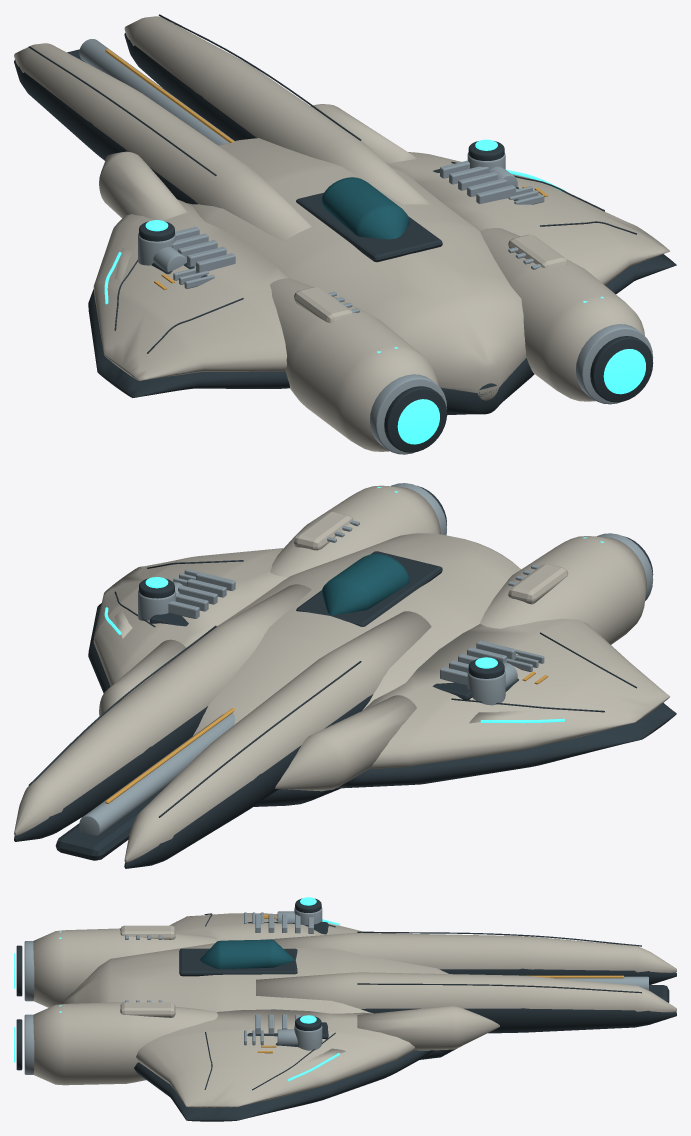
File: siege-1.glb
3 views of the same model, one above another, from view 1: azimuth 30°, elevation 25°; view 2: azimuth 150°, elevation 25°; view 3: azimuth 270°, elevation 25° (orthographic). The views are drawn at different scales.
Visible parts, largest first — view 1: SM_Hull, SM_Wing_Left, SM_Engine_Left, SM_Engine_Right, SM_Wing_Right, SM_Stage03, SM_Weapon_Right, SM_Stage04, SM_Stage01; view 2: SM_Hull, SM_Wing_Left, SM_Engine_Left, SM_Wing_Right, SM_Engine_Right, SM_Weapon_Right, SM_Stage03, SM_Stage04, SM_Stage02; view 3: SM_Hull, SM_Wing_Right, SM_Engine_Right, SM_Engine_Left, SM_Wing_Left, SM_Stage03, SM_Stage04, SM_Weapon_Right, SM_Stage01.
Boxes of the visible parts, x1,y1,x2,y2 form: SM_Hull: (14, 14, 534, 415); SM_Wing_Left: (88, 199, 289, 397); SM_Engine_Left: (270, 278, 446, 454); SM_Engine_Right: (480, 228, 653, 404); SM_Wing_Right: (386, 152, 676, 293); SM_Stage03: (173, 186, 568, 322); SM_Weapon_Right: (67, 39, 234, 144); SM_Stage04: (138, 139, 505, 265); SM_Stage01: (151, 166, 518, 274); SM_Hull: (14, 533, 520, 868); SM_Wing_Left: (336, 618, 676, 788); SM_Engine_Left: (480, 533, 653, 644); SM_Wing_Right: (88, 548, 288, 693); SM_Engine_Right: (270, 483, 446, 576); SM_Weapon_Right: (55, 708, 234, 860); SM_Stage03: (173, 511, 568, 671); SM_Stage04: (138, 577, 505, 705); SM_Stage02: (115, 610, 532, 723); SM_Hull: (64, 914, 676, 1059); SM_Wing_Right: (134, 1009, 434, 1121); SM_Engine_Right: (14, 1000, 217, 1085); SM_Engine_Left: (14, 928, 217, 1007); SM_Wing_Left: (169, 913, 362, 940); SM_Stage03: (120, 912, 263, 1045); SM_Stage04: (294, 897, 322, 1050); SM_Weapon_Right: (525, 975, 669, 1002); SM_Stage01: (275, 911, 298, 1047).
Size of the model in its own units: 6.6 by 1.73 by 9.5.
